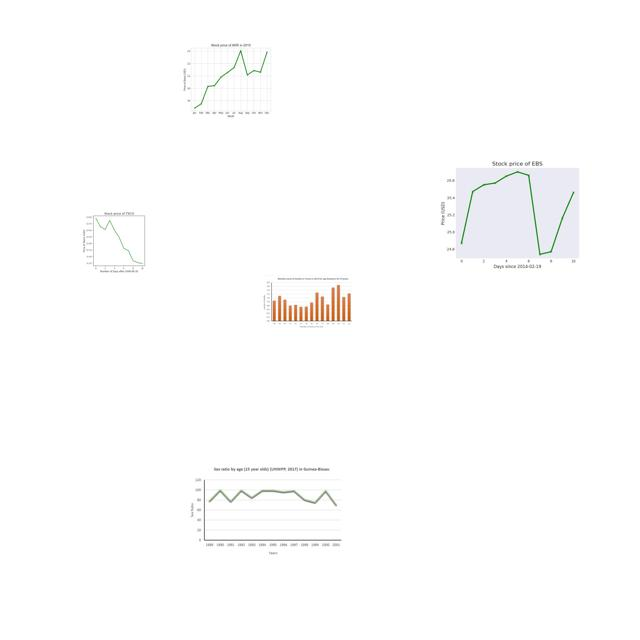Graph: (436, 153, 595, 272), (186, 465, 351, 558), (175, 38, 284, 120), (75, 208, 161, 273), (261, 275, 354, 330)
